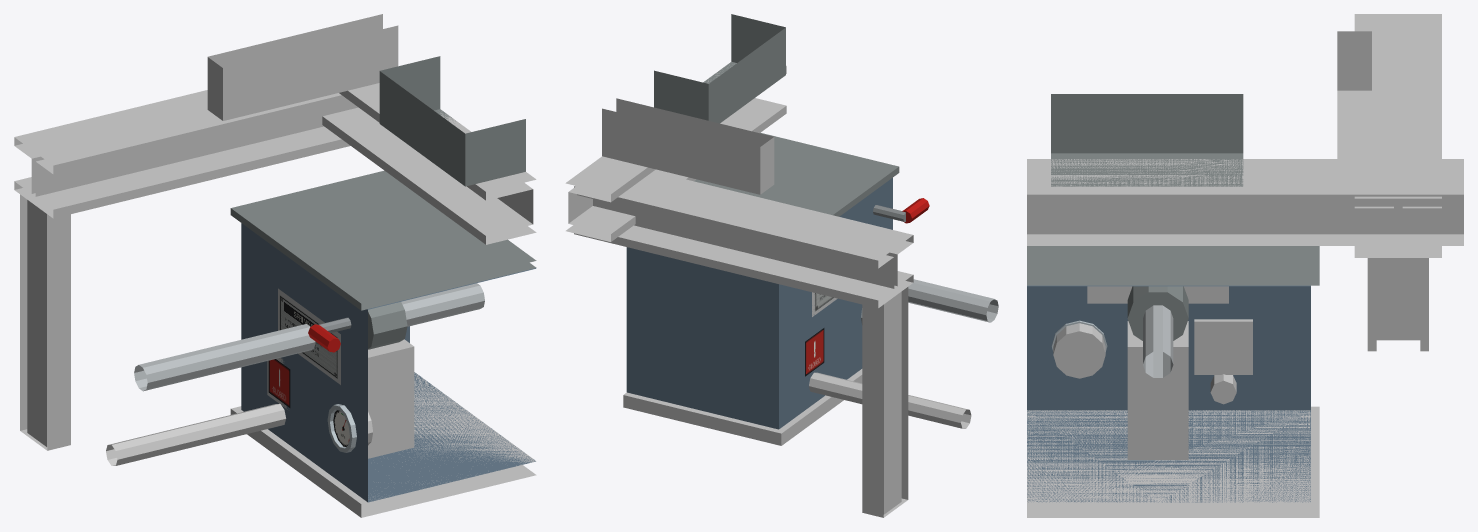
The model's file is cell_8.obj.
3 renders of one model, left to right at view 1: azimuth 30°, elevation 25°; view 2: azimuth 150°, elevation 25°; view 3: azimuth 270°, elevation 25°, orthographic. The views are drawn at different scales.
Size of the model in its own units: 1 by 1 by 1.
